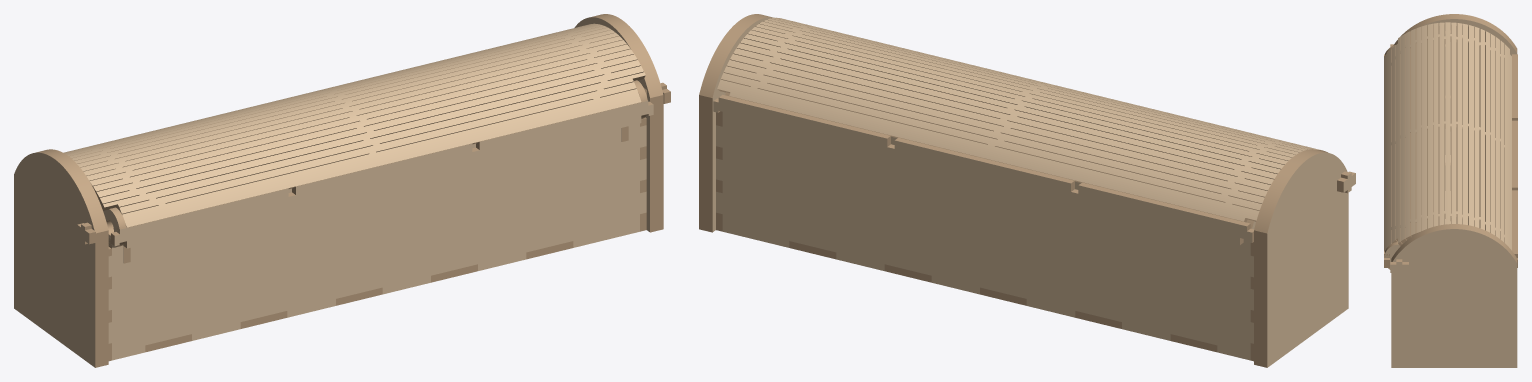
File: meb033-assembly-v3.glb
3 renders of one model, left to right at view 1: azimuth 30°, elevation 25°; view 2: azimuth 150°, elevation 25°; view 3: azimuth 270°, elevation 25°, orthographic. The views are drawn at different scales.
Parts seen in each view (by area): view 1: BODY_BACK, LID_SKIN_RADIAL_4MM, OUTER_FASCIA_L, LID_BACK_RAIL, FASCIA_HIDDEN_BACKER_R, BODY_FLOOR, OUTER_FASCIA_R, FASCIA_HIDDEN_BACKER_L; view 2: BODY_FRONT, LID_SKIN_RADIAL_4MM, OUTER_FASCIA_L, LID_FRONT_RAIL, FASCIA_HIDDEN_BACKER_R, BODY_FLOOR, FASCIA_HIDDEN_BACKER_L, OUTER_FASCIA_R; view 3: LID_SKIN_RADIAL_4MM, OUTER_FASCIA_R, LID_FRONT_RAIL, FASCIA_HIDDEN_BACKER_L, FASCIA_HIDDEN_BACKER_R, OUTER_FASCIA_L, CAPTIVE_PIN_R, LID_END_R.
Part boxes in pixels (x1=…): BODY_BACK: x1=108, y1=123, x2=646, y2=360; LID_SKIN_RADIAL_4MM: x1=63, y1=23, x2=645, y2=227; OUTER_FASCIA_L: x1=14, y1=151, x2=101, y2=367; LID_BACK_RAIL: x1=111, y1=100, x2=653, y2=248; FASCIA_HIDDEN_BACKER_R: x1=574, y1=15, x2=656, y2=232; BODY_FLOOR: x1=145, y1=241, x2=573, y2=352; OUTER_FASCIA_R: x1=597, y1=14, x2=663, y2=230; FASCIA_HIDDEN_BACKER_L: x1=41, y1=149, x2=108, y2=366; BODY_FRONT: x1=716, y1=112, x2=1253, y2=360; LID_SKIN_RADIAL_4MM: x1=717, y1=17, x2=1328, y2=222; OUTER_FASCIA_L: x1=1260, y1=151, x2=1348, y2=367; LID_FRONT_RAIL: x1=713, y1=94, x2=1253, y2=245; FASCIA_HIDDEN_BACKER_R: x1=705, y1=15, x2=774, y2=232; BODY_FLOOR: x1=789, y1=241, x2=1217, y2=352; FASCIA_HIDDEN_BACKER_L: x1=1254, y1=149, x2=1319, y2=366; OUTER_FASCIA_R: x1=699, y1=14, x2=764, y2=230; LID_SKIN_RADIAL_4MM: x1=1384, y1=22, x2=1511, y2=251; OUTER_FASCIA_R: x1=1391, y1=226, x2=1517, y2=367; LID_FRONT_RAIL: x1=1512, y1=54, x2=1517, y2=267; FASCIA_HIDDEN_BACKER_L: x1=1396, y1=16, x2=1517, y2=55; FASCIA_HIDDEN_BACKER_R: x1=1391, y1=224, x2=1517, y2=260; OUTER_FASCIA_L: x1=1393, y1=14, x2=1517, y2=50; CAPTIVE_PIN_R: x1=1390, y1=259, x2=1408, y2=275; LID_END_R: x1=1384, y1=242, x2=1402, y2=269.
Bounding box in the file's own units: 0.348 × 0.1024 × 0.0895.
